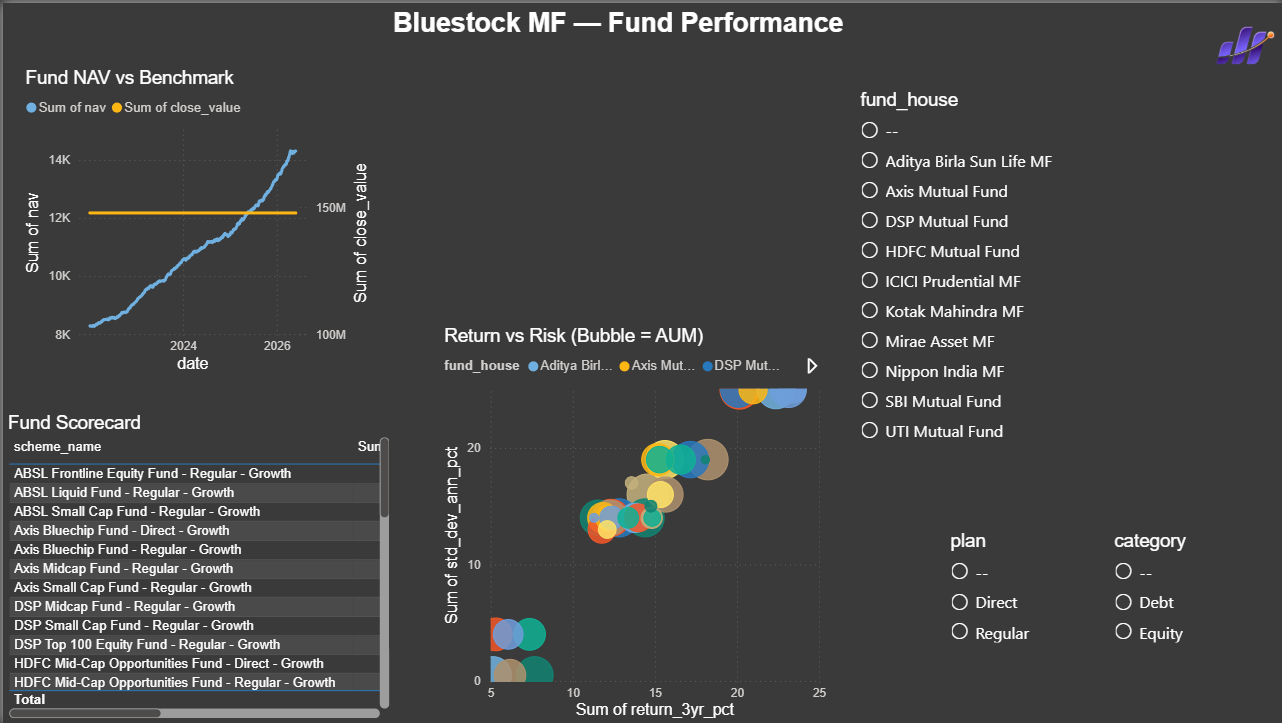

What the dashboard file says about the page in this screenshot:
{"tool":"powerbi","page":{"name":"Fund Performance","canvas":[1280,720],"ordinal":1},"visuals":[{"type":"scatterChart","title":"Return vs Risk (Bubble = AUM)","fields":{"X":["Sum(clean_performance.return_3yr_pct)"],"Y":["Sum(clean_performance.std_dev_ann_pct)"],"Size":["Sum(clean_performance.aum_crore)"],"Series":["clean_performance.fund_house"],"Category":["clean_performance.scheme_name"]},"box":[436,322,392,398],"z":0},{"type":"tableEx","title":"Fund Scorecard","fields":{"Values":["clean_performance.scheme_name","Sum(clean_performance.return_3yr_pct)","Sum(clean_performance.sharpe_ratio)","Sum(clean_performance.aum_crore)","Sum(clean_performance.expense_ratio_pct)"]},"box":[0,409,391,311],"z":1},{"type":"listSlicer","fields":{"Values":["clean_fund_master.fund_house"]},"box":[852,86,390,370],"z":2},{"type":"listSlicer","fields":{"Values":["clean_fund_master.plan"]},"box":[942,528,164,162],"z":3},{"type":"listSlicer","fields":{"Values":["clean_fund_master.category"]},"box":[1106,528,160,124],"z":4},{"type":"lineChart","title":"Fund NAV vs Benchmark","fields":{"Y":["Sum(clean_nav.nav)"],"Y2":["Sum(clean_benchmark_indices.close_value)"],"Category":["clean_nav.date"]},"box":[18,64,354,310],"z":5},{"type":"image","box":[1204,0,76,86],"z":6},{"type":"textbox","box":[326,0,578,64],"z":7}]}

Visuals, with their boxes in screenshot pixels (x1, y1, x2, y2), scaled from the page's 1280x720 canvas onto the 1282x723 screenshot:
"Return vs Risk (Bubble = AUM)" scatterChart: x1=437 y1=323 x2=829 y2=722
"Fund Scorecard" tableEx: x1=0 y1=411 x2=392 y2=722
listSlicer - clean_fund_master.fund_house: x1=853 y1=86 x2=1244 y2=458
listSlicer - clean_fund_master.plan: x1=943 y1=530 x2=1108 y2=693
listSlicer - clean_fund_master.category: x1=1108 y1=530 x2=1268 y2=655
"Fund NAV vs Benchmark" lineChart: x1=18 y1=64 x2=373 y2=376
image: x1=1206 y1=0 x2=1281 y2=86
textbox: x1=327 y1=0 x2=905 y2=64
